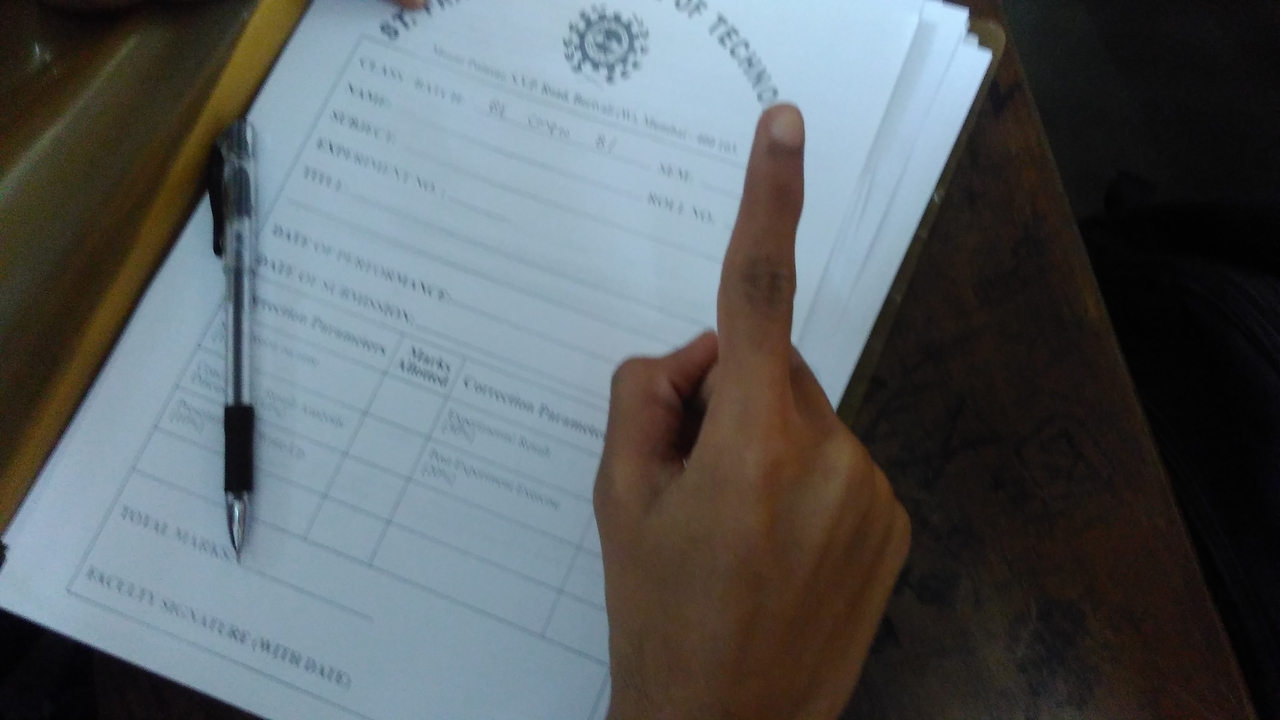fingertip: (752, 98, 812, 156)
